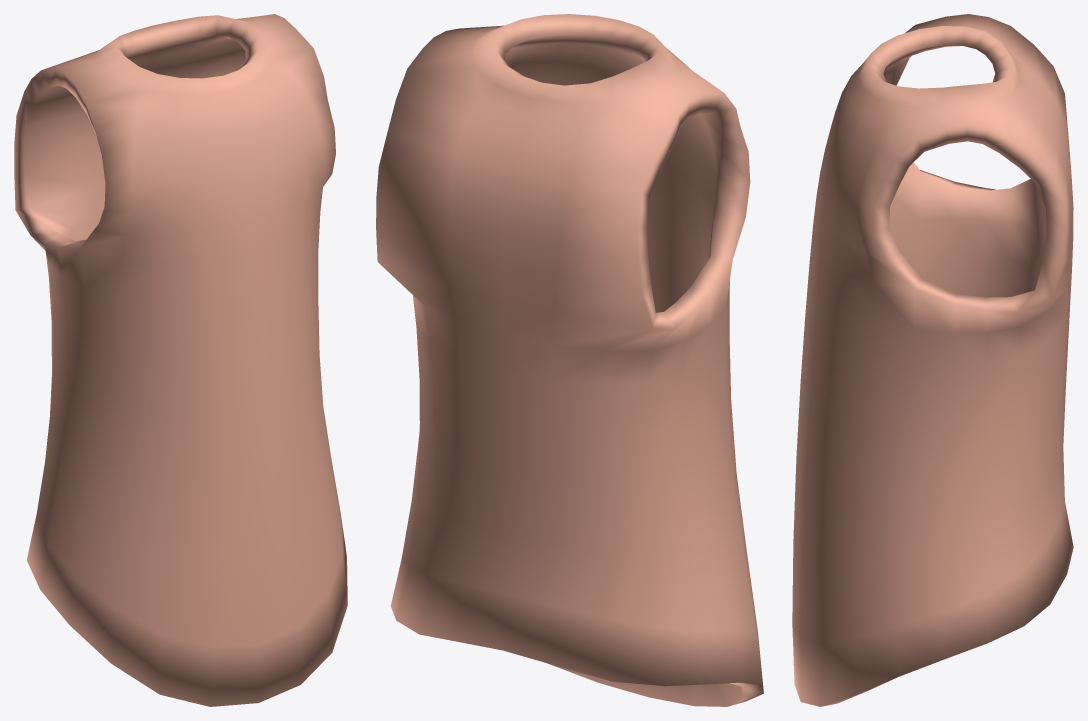
Rendered from TankTop.fbx.
3 renders of one model, left to right at view 1: azimuth 30°, elevation 25°; view 2: azimuth 150°, elevation 25°; view 3: azimuth 270°, elevation 25°, orthographic. The views are drawn at different scales.
Parts seen in each view (by area): view 1: Base.009; view 2: Base.009; view 3: Base.009.
Boxes of the visible parts, <box> form: Base.009: <box>14,14,347,706</box>; Base.009: <box>376,14,763,706</box>; Base.009: <box>792,14,1073,706</box>.
Size of the model in its own units: 35.48 by 70.96 by 28.78.
